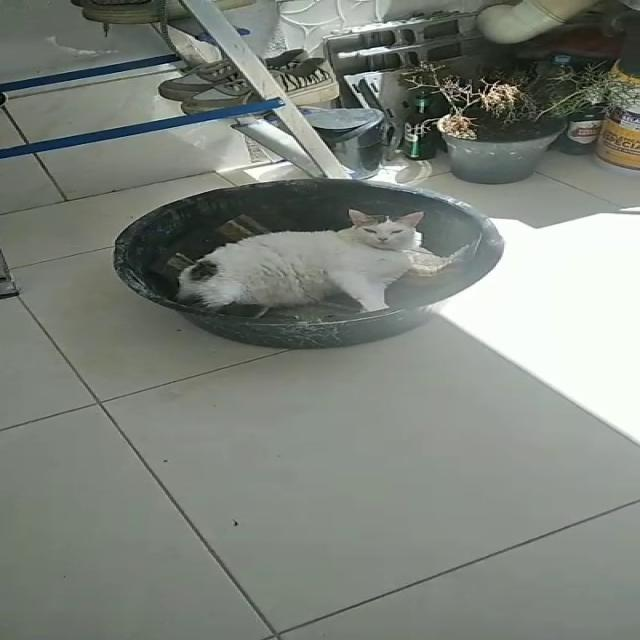Simba: (177, 201, 515, 317)
